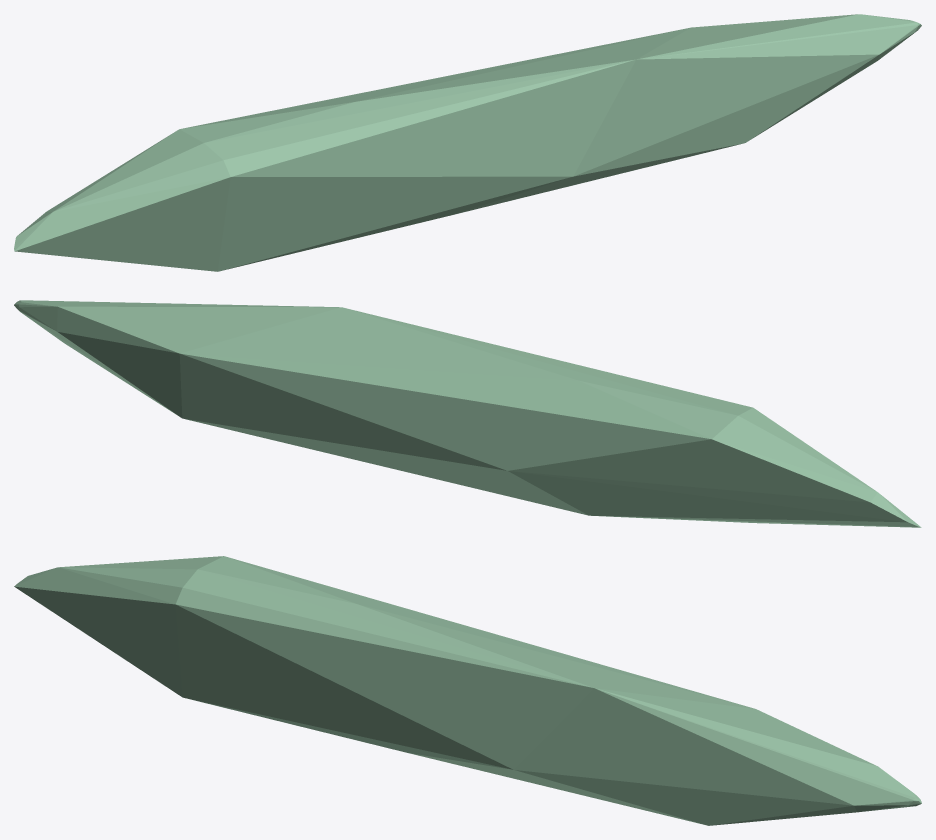
The model's file is stationery_marker_alcohol_ultramarine_a01.glb.
The picture shows the model from 3 angles, top to bottom: view 1: azimuth 30°, elevation 25°; view 2: azimuth 150°, elevation 25°; view 3: azimuth 330°, elevation 25°; orthographic projection.
Visible parts, largest first — view 1: geometry_0; view 2: geometry_0; view 3: geometry_0.
Boxes of the visible parts, <box> form: geometry_0: <box>14,14,921,271</box>; geometry_0: <box>14,300,921,527</box>; geometry_0: <box>14,556,921,825</box>.
Size of the model in its own units: 0.4749 by 0.0607 by 0.0568.
